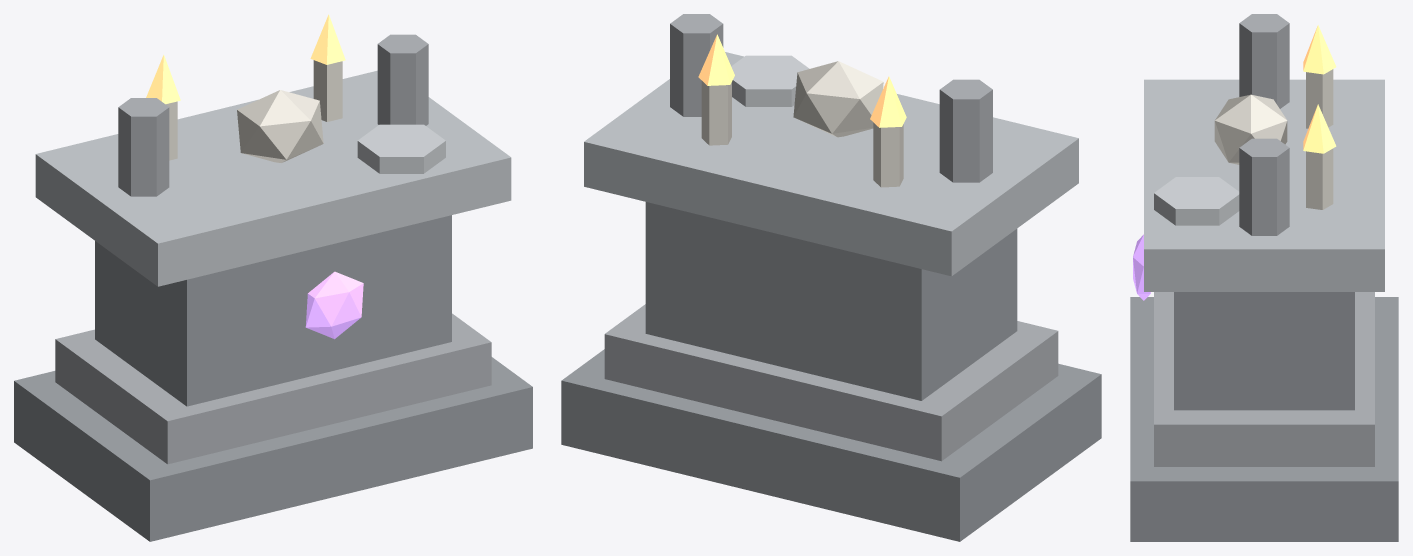
The model's file is dungeon_altar.glb.
3 views of the same model, side by side, from view 1: azimuth 30°, elevation 25°; view 2: azimuth 150°, elevation 25°; view 3: azimuth 270°, elevation 25° (orthographic). The views are drawn at different scales.
Visible parts, largest first — view 1: slab, base, shaft, step, skull, pillar_0, pillar_1, offering_bowl, rune, candle_1, flame_1, flame_0; view 2: slab, shaft, base, step, pillar_0, skull, pillar_1, offering_bowl, candle_0, candle_1, flame_0, flame_1; view 3: slab, base, shaft, step, pillar_1, pillar_0, offering_bowl, skull, candle_1, candle_0, flame_0, flame_1 (+1 smaller).
Boxes of the visible parts, x1,y1,x2,y2 form: slab: (35,70,511,286); base: (14,357,532,541); shaft: (95,215,451,406); step: (55,313,491,464); skull: (237,90,323,162); pillar_0: (118,98,169,196); pillar_1: (377,34,428,125); offering_bowl: (357,124,445,173); rune: (305,271,363,339); candle_1: (313,60,342,121); flame_1: (310,14,345,64); flame_0: (146,54,180,104); slab: (584,52,1078,276); shaft: (645,202,1017,400); base: (561,349,1101,541); step: (604,304,1058,461); pillar_0: (939,79,992,182); skull: (793,61,883,137); pillar_1: (670,14,723,116); offering_bowl: (731,55,809,106); candle_0: (873,122,903,187); candle_1: (701,80,731,145); flame_0: (870,76,906,127); flame_1: (698,34,734,85); slab: (1144,79,1384,291); base: (1130,297,1398,541); shaft: (1174,292,1354,410); step: (1154,292,1374,466); pillar_1: (1239,138,1289,235); pillar_0: (1239,14,1289,108); offering_bowl: (1154,177,1239,225); skull: (1214,94,1287,164); candle_1: (1306,148,1333,209); candle_0: (1306,69,1333,128); flame_0: (1303,25,1336,74); flame_1: (1303,104,1336,153).
Size of the model in its own units: 1.3 by 1.27 by 0.8.
